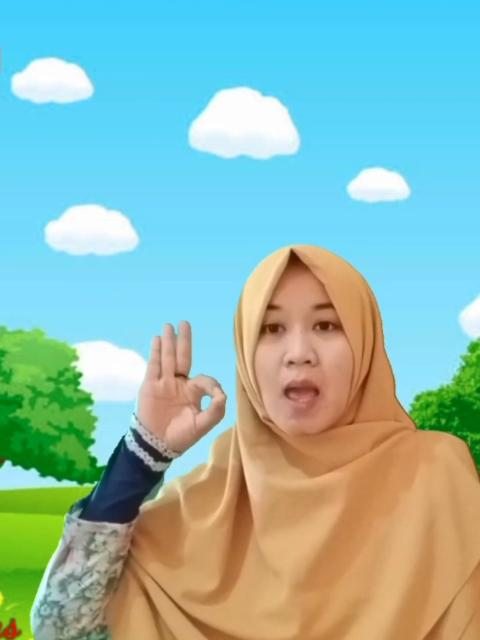F: (136, 315, 228, 455)
